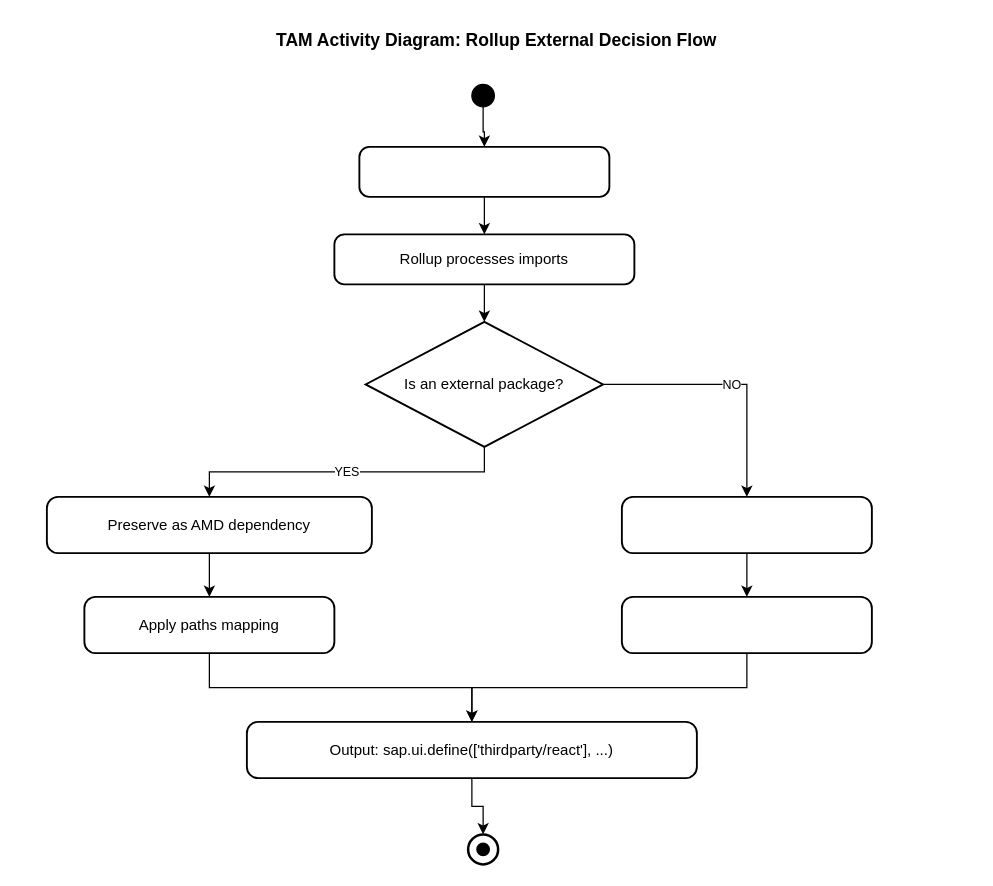
The diagram is 993 pixels wide and 886 high, and some of its shapes have lost their labels. The shapes that lost their labels are listed below. From the top down, each one's centre as x and y in pixels, then its label:
the point at 484,171: Entry: react-dom
the point at 746,524: Inline into bundle
the point at 746,624: Resolve + tree-shake
